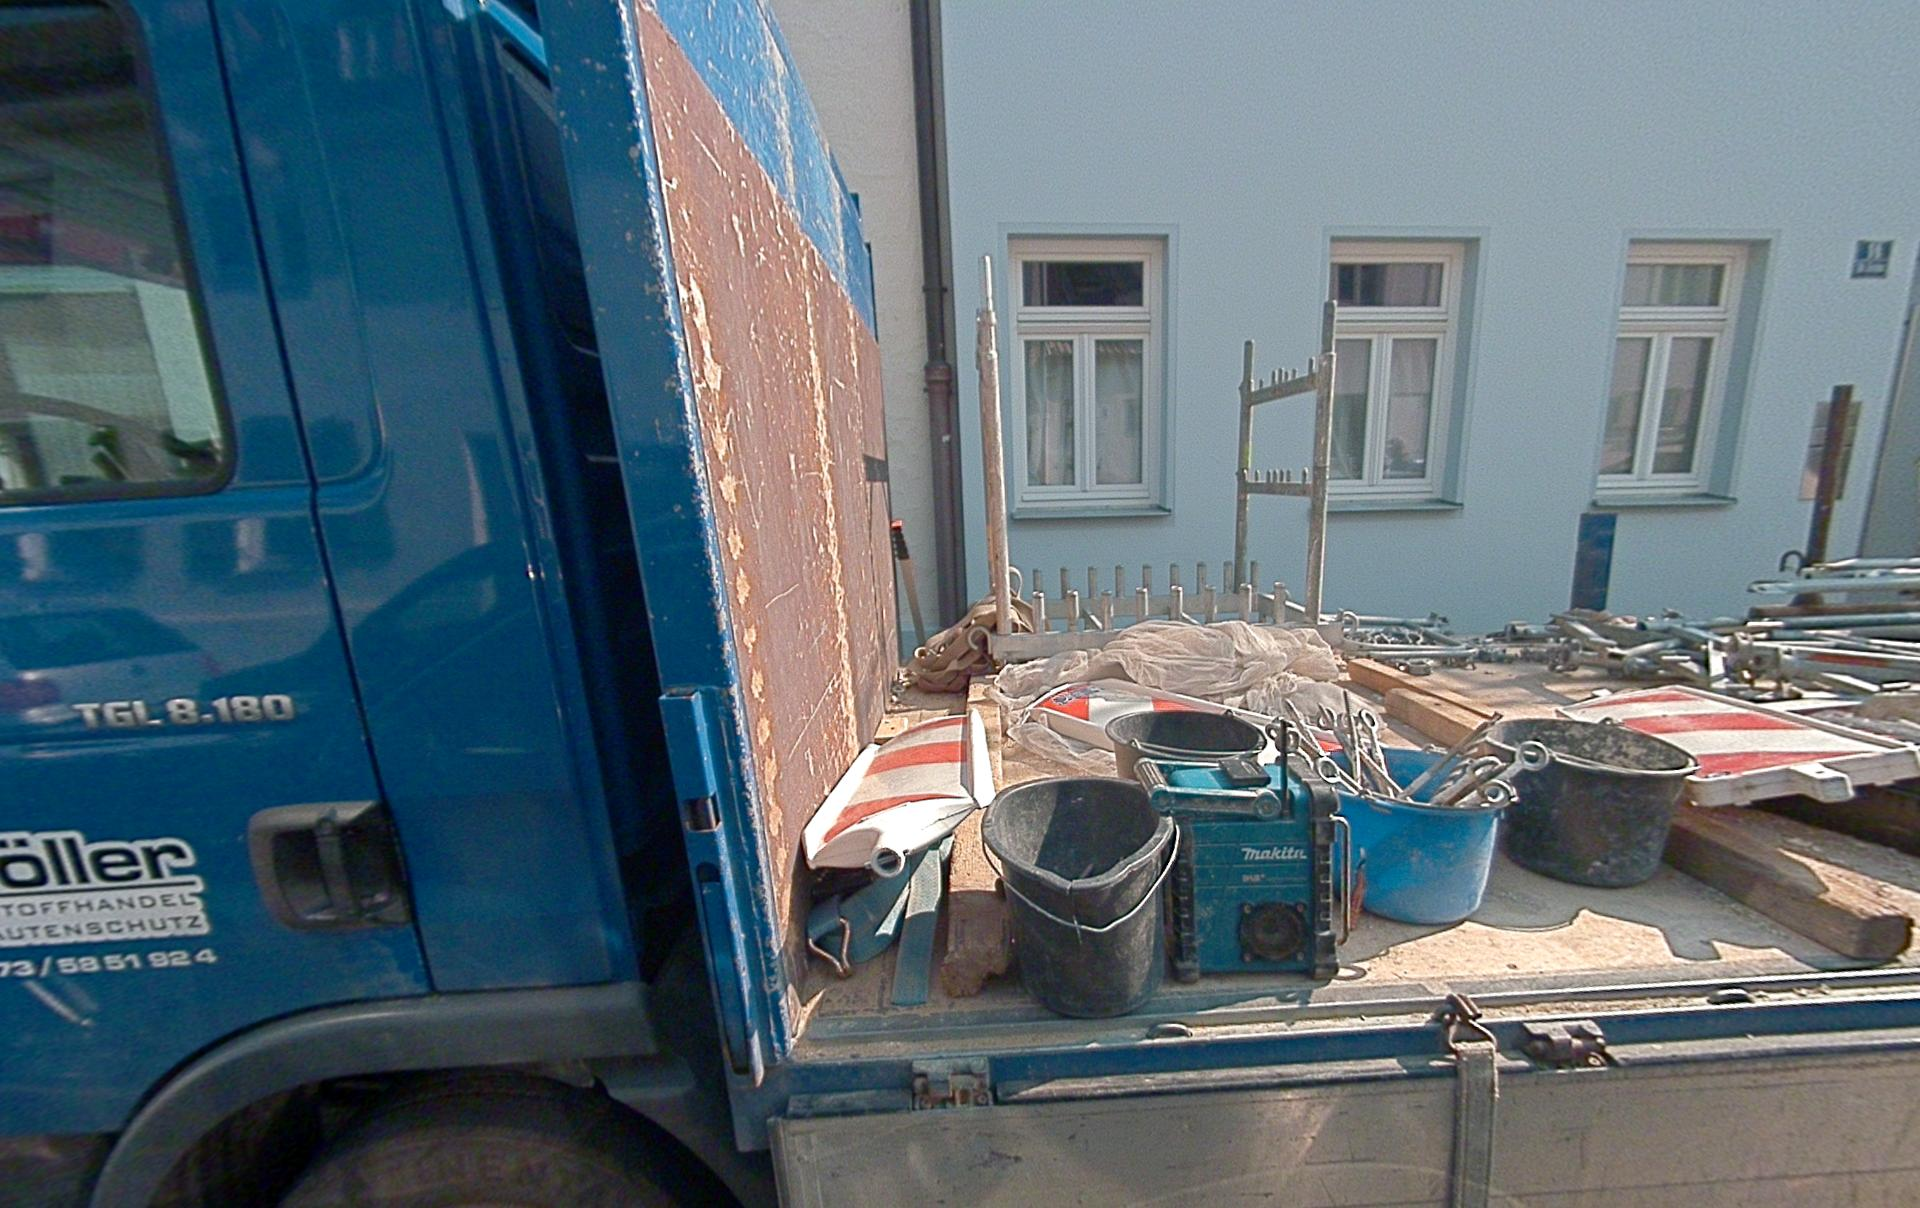car: (1, 1, 1917, 1207)
